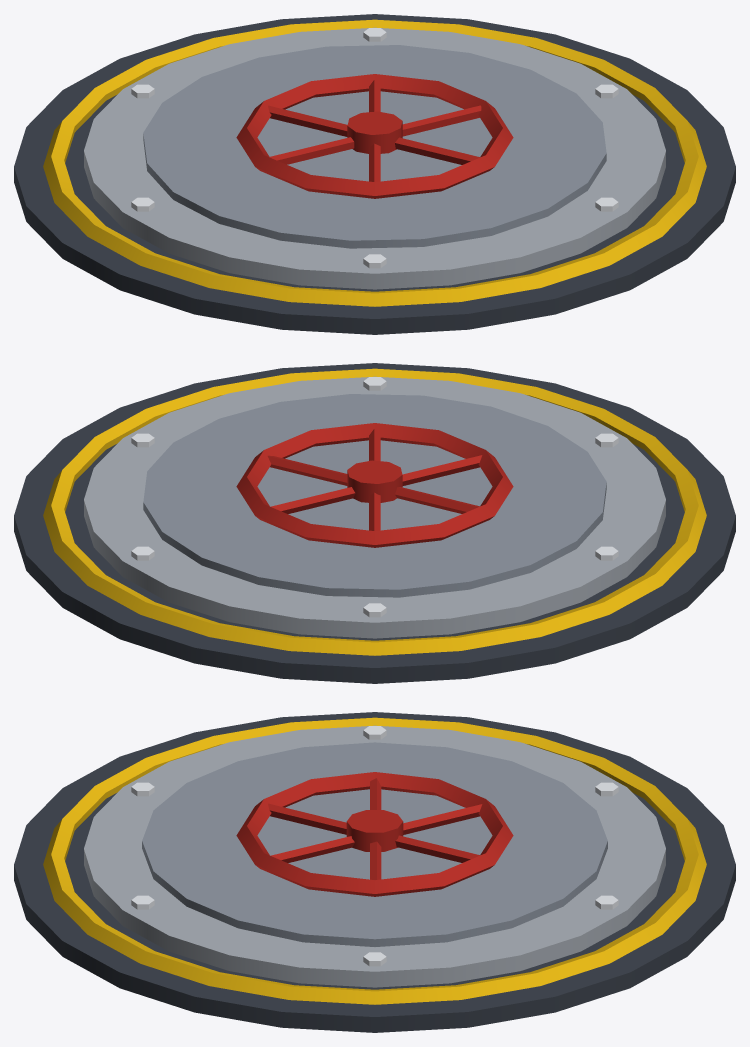
The model's file is hatch_floor_round_wheel.glb.
3 views of the same model, one above another, from view 1: azimuth 30°, elevation 25°; view 2: azimuth 150°, elevation 25°; view 3: azimuth 270°, elevation 25° (orthographic).
Visible parts, largest first — view 1: hatch_floor_round_wheel; view 2: hatch_floor_round_wheel; view 3: hatch_floor_round_wheel.
Boxes of the visible parts, x1=… form: hatch_floor_round_wheel: x1=14, y1=14, x2=735, y2=334; hatch_floor_round_wheel: x1=14, y1=363, x2=735, y2=683; hatch_floor_round_wheel: x1=14, y1=712, x2=735, y2=1032.
Size of the model in its own units: 1.24 by 0.115 by 1.24.
